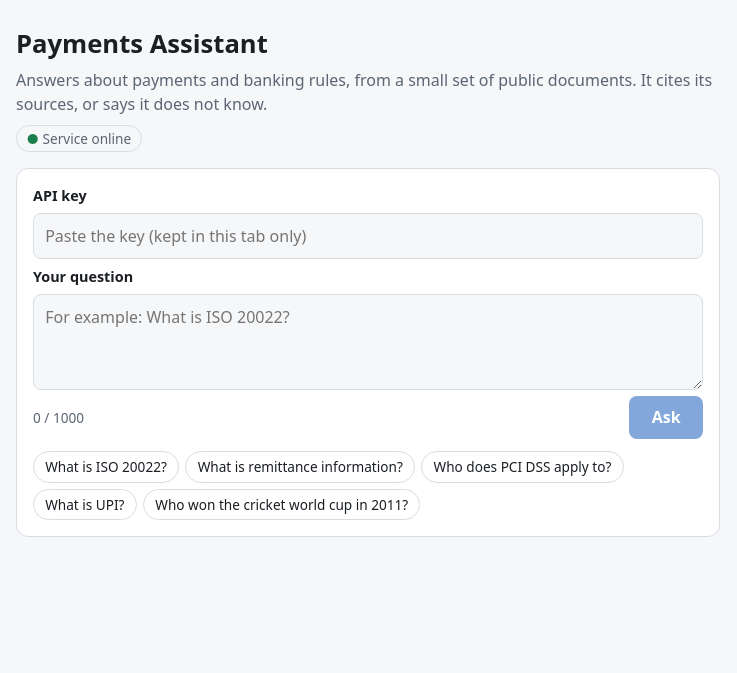
feedback › says so when feedback could not be sent, and lets the user retry
Step 1. Type "What is ISO 20022?" into the text box labelled "Your question" → (368, 342), box [33,294,703,390]
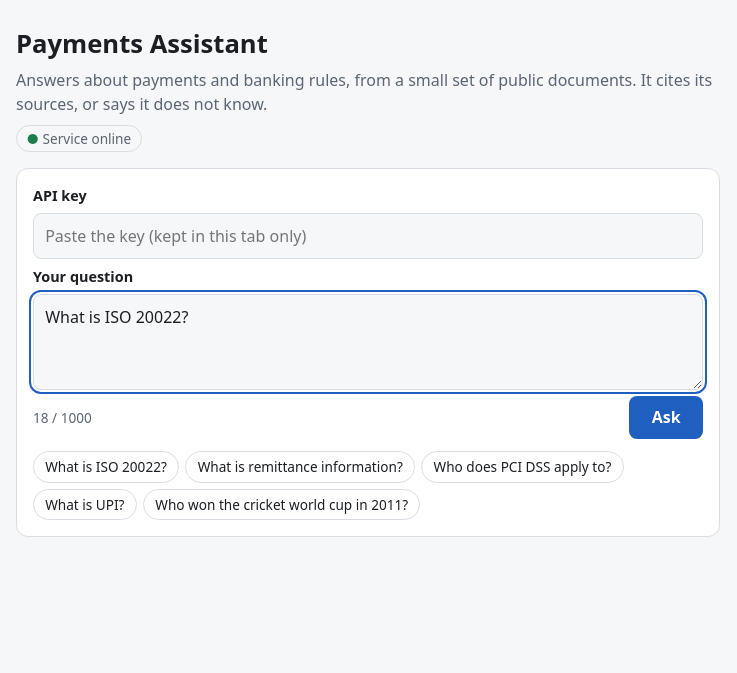
Step 2. Click the button "Ask" → (666, 418), box [629,396,703,439]
(page scrolled)
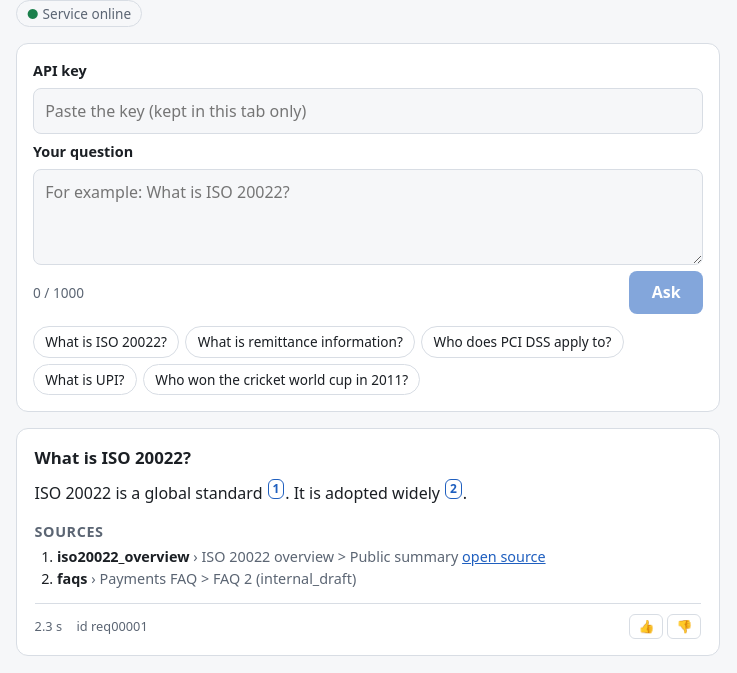
Step 3. Click the button named "This answer was not helpful" → (684, 627), box [667,614,701,639]
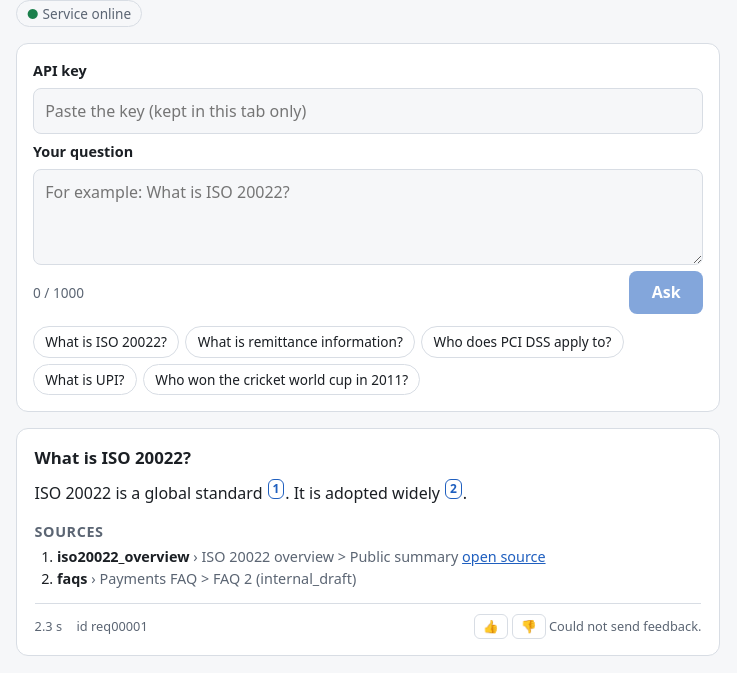
Now the button named "This answer was not helpful" is enabled, box [512,614,546,639]
Now the text "Could not send feedback." is shown, box [546,617,701,635]
